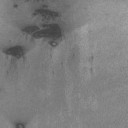iron sheet ash: (20, 4, 64, 48), (2, 44, 26, 60), (16, 122, 25, 128), (14, 3, 18, 8)
